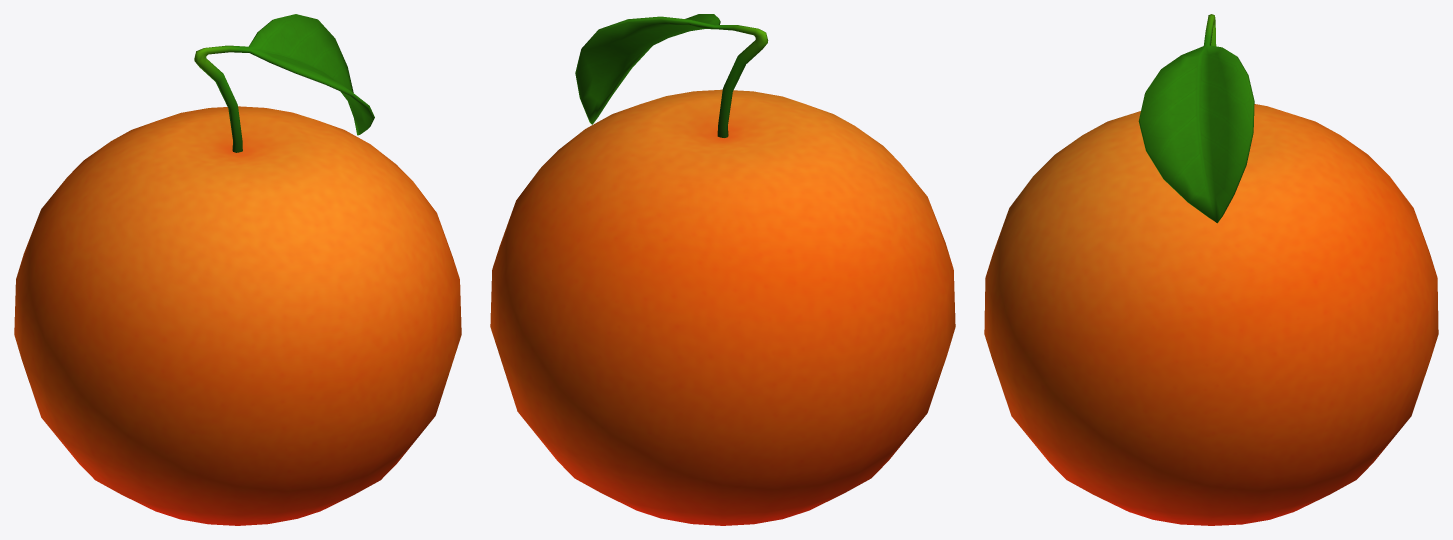
Rendered from Orange.glb.
3 views of the same model, side by side, from view 1: azimuth 30°, elevation 25°; view 2: azimuth 150°, elevation 25°; view 3: azimuth 270°, elevation 25° (orthographic). The views are drawn at different scales.
Parts seen in each view (by area): view 1: Orange; view 2: Orange; view 3: Orange.
Part boxes in pixels (box(x1,y1,x2,y2)): Orange: box(14, 14, 461, 525); Orange: box(490, 14, 955, 525); Orange: box(984, 14, 1438, 525).
Bounding box in the file's own units: 79.21 × 89.02 × 79.21.
1 material, 1 textured.
